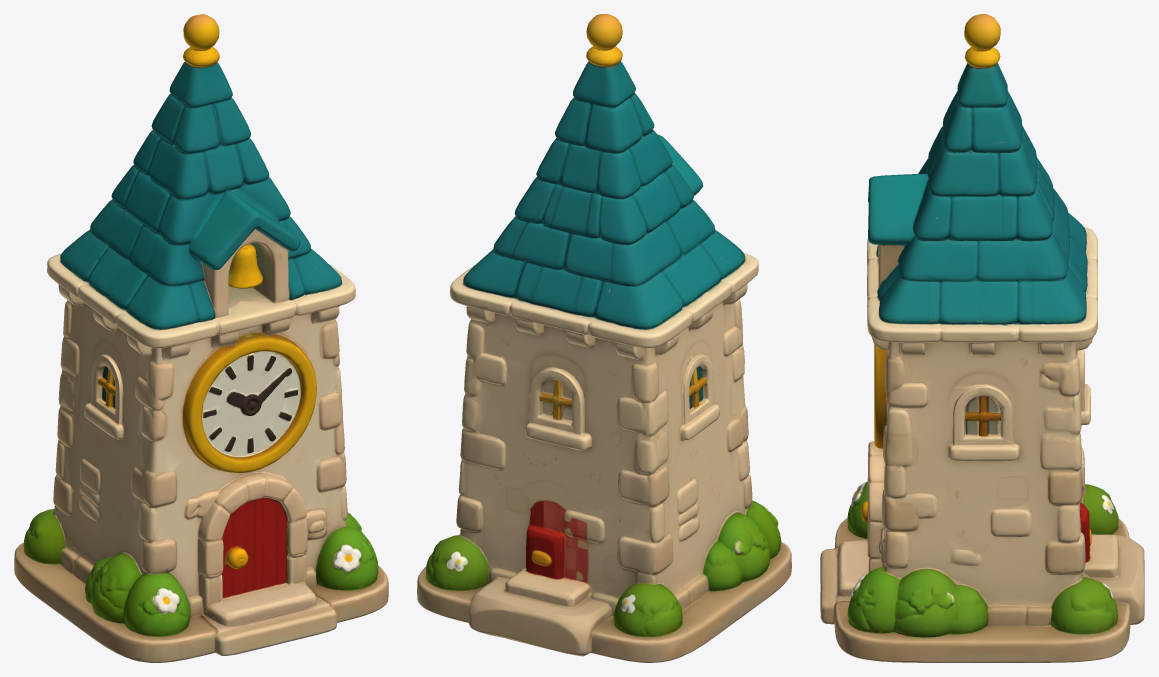
Rendered from prop_clocktower.glb.
3 renders of one model, left to right at view 1: azimuth 30°, elevation 25°; view 2: azimuth 150°, elevation 25°; view 3: azimuth 270°, elevation 25°, orthographic.
Bounding box in the file's own units: 0.9453 × 1.9 × 0.9568.
1 material, 1 textured.
